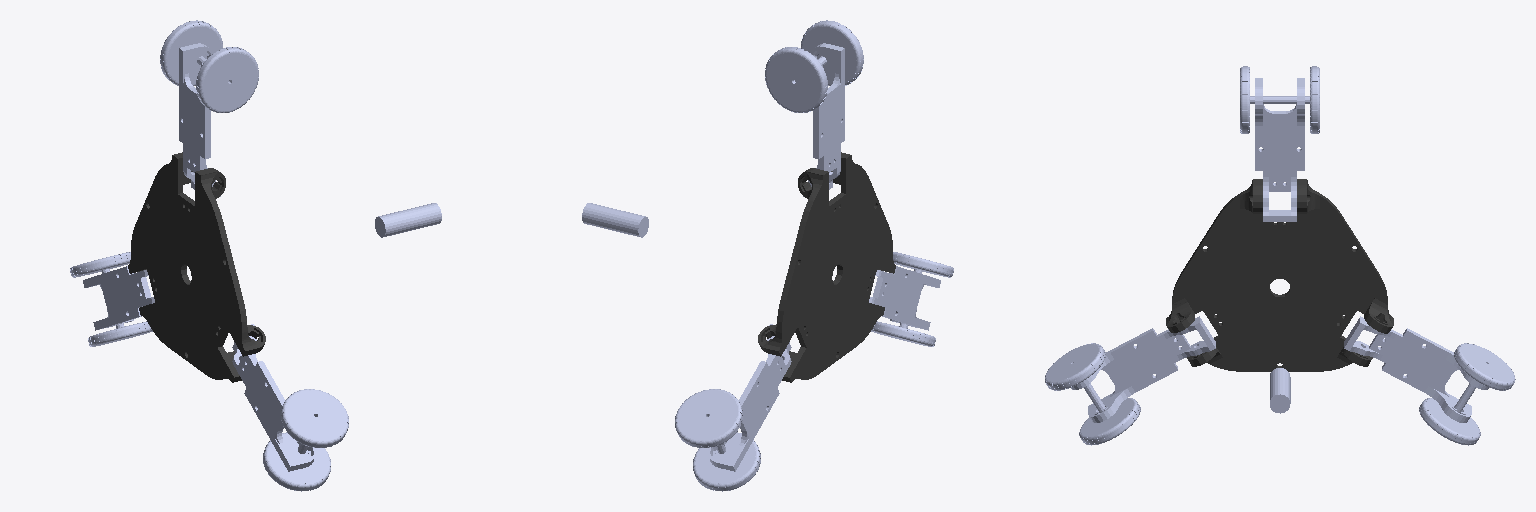
The robot description file, URDF, robot "segf_ver3":
<?xml version="1.0" encoding="utf-8"?>
<!-- This URDF was automatically created by SolidWorks to URDF Exporter! Originally created by [author] ([email redacted]) 
     Commit Version: 1.6.0-1-g15f4949  Build Version: 1.6.7594.29634
     For more information, please see http://wiki.ros.org/sw_urdf_exporter -->
<robot
  name="segf_ver3">
  <link
    name="base_link">
    <inertial>
      <origin
        xyz="0.0107631885751334 0.125751388465178 0.196706606649359"
        rpy="0 0 0" />
      <mass
        value="0.0292481653022373" />
      <inertia
        ixx="3.88747734808681E-05"
        ixy="-5.98006564893277E-08"
        ixz="3.06596509862467E-09"
        iyy="1.93056895699406E-05"
        iyz="7.64627510959608E-10"
        izz="1.98637946417113E-05" />
    </inertial>
    <visual>
      <origin
        xyz="0 0 0"
        rpy="0 0 0" />
      <geometry>
        <mesh
          filename="package://segf_ver3/meshes/base_link.STL" />
      </geometry>
      <material
        name="">
        <color
          rgba="0.298039215686275 0.298039215686275 0.298039215686275 1" />
      </material>
    </visual>
    <collision>
      <origin
        xyz="0 0 0"
        rpy="0 0 0" />
      <geometry>
        <mesh
          filename="package://segf_ver3/meshes/base_link.STL" />
      </geometry>
    </collision>
  </link>
  <link
    name="sus1">
    <inertial>
      <origin
        xyz="0.0245281392565479 -0.00579743460623024 -0.00799999809102764"
        rpy="0 0 0" />
      <mass
        value="0.00484464615393237" />
      <inertia
        ixx="3.44953495510738E-07"
        ixy="5.10613042897034E-08"
        ixz="1.27802151408472E-14"
        iyy="2.31225028349891E-06"
        iyz="2.19478513694735E-14"
        izz="2.08649864683354E-06" />
    </inertial>
    <visual>
      <origin
        xyz="0 0 0"
        rpy="0 0 0" />
      <geometry>
        <mesh
          filename="package://segf_ver3/meshes/sus1.STL" />
      </geometry>
      <material
        name="">
        <color
          rgba="0.792156862745098 0.819607843137255 0.933333333333333 1" />
      </material>
    </visual>
    <collision>
      <origin
        xyz="0 0 0"
        rpy="0 0 0" />
      <geometry>
        <mesh
          filename="package://segf_ver3/meshes/sus1.STL" />
      </geometry>
    </collision>
  </link>
  <joint
    name="sus1r"
    type="revolute">
    <origin
      xyz="0.020949 -0.28148 0.067161"
      rpy="3.1416 -0.5236 1.5708" />
    <parent
      link="base_link" />
    <child
      link="sus1" />
    <axis
      xyz="0 0 0" />
    <limit
      lower="0"
      upper="0"
      effort="0"
      velocity="0" />
  </joint>
  <link
    name="w1">
    <inertial>
      <origin
        xyz="5.22216991871716E-12 0.0109999999662131 1.83967563405218E-11"
        rpy="0 0 0" />
      <mass
        value="0.00802564595067572" />
      <inertia
        ixx="2.63042675367951E-06"
        ixy="-7.55275615083696E-16"
        ixz="6.57318531134782E-16"
        iyy="9.68771865572928E-07"
        iyz="-1.40328686878471E-15"
        izz="2.63042674934207E-06" />
    </inertial>
    <visual>
      <origin
        xyz="0 0 0"
        rpy="0 0 0" />
      <geometry>
        <mesh
          filename="package://segf_ver3/meshes/w1.STL" />
      </geometry>
      <material
        name="">
        <color
          rgba="0.792156862745098 0.819607843137255 0.933333333333333 1" />
      </material>
    </visual>
    <collision>
      <origin
        xyz="0 0 0"
        rpy="0 0 0" />
      <geometry>
        <mesh
          filename="package://segf_ver3/meshes/w1.STL" />
      </geometry>
    </collision>
  </link>
  <joint
    name="w1c"
    type="continuous">
    <origin
      xyz="0 0 -0.019"
      rpy="1.5708 0 -1.0993" />
    <parent
      link="sus1" />
    <child
      link="w1" />
    <axis
      xyz="0 0 0" />
  </joint>
  <link
    name="sus2">
    <inertial>
      <origin
        xyz="0.0245281388862843 -0.00579743458596982 -0.00799999408218524"
        rpy="0 0 0" />
      <mass
        value="0.00484464622012381" />
      <inertia
        ixx="3.44953504540437E-07"
        ixy="5.10613036903035E-08"
        ixz="1.55592500691201E-13"
        iyy="2.31225031988856E-06"
        iyz="4.30376878655885E-14"
        izz="2.0864986737292E-06" />
    </inertial>
    <visual>
      <origin
        xyz="0 0 0"
        rpy="0 0 0" />
      <geometry>
        <mesh
          filename="package://segf_ver3/meshes/sus2.STL" />
      </geometry>
      <material
        name="">
        <color
          rgba="0.792156862745098 0.819607843137255 0.933333333333333 1" />
      </material>
    </visual>
    <collision>
      <origin
        xyz="0 0 0"
        rpy="0 0 0" />
      <geometry>
        <mesh
          filename="package://segf_ver3/meshes/sus2.STL" />
      </geometry>
    </collision>
  </link>
  <joint
    name="sus2r"
    type="revolute">
    <origin
      xyz="0.020949 -0.10396 0.081018"
      rpy="0 -0.5236 -1.5708" />
    <parent
      link="base_link" />
    <child
      link="sus2" />
    <axis
      xyz="0 0 0" />
    <limit
      lower="0"
      upper="0"
      effort="0"
      velocity="0" />
  </joint>
  <link
    name="w2">
    <inertial>
      <origin
        xyz="5.21314935664208E-12 0.0109999999660882 1.84374460143744E-11"
        rpy="0 0 0" />
      <mass
        value="0.00802564595064063" />
      <inertia
        ixx="2.63042675366783E-06"
        ixy="-7.55284403050523E-16"
        ixz="6.57278455888465E-16"
        iyy="9.6877186556785E-07"
        iyz="-1.3996894139786E-15"
        izz="2.63042674933548E-06" />
    </inertial>
    <visual>
      <origin
        xyz="0 0 0"
        rpy="0 0 0" />
      <geometry>
        <mesh
          filename="package://segf_ver3/meshes/w2.STL" />
      </geometry>
      <material
        name="">
        <color
          rgba="0.792156862745098 0.819607843137255 0.933333333333333 1" />
      </material>
    </visual>
    <collision>
      <origin
        xyz="0 0 0"
        rpy="0 0 0" />
      <geometry>
        <mesh
          filename="package://segf_ver3/meshes/w2.STL" />
      </geometry>
    </collision>
  </link>
  <joint
    name="w2c"
    type="continuous">
    <origin
      xyz="0 0 -0.019"
      rpy="1.5708 0 -1.0993" />
    <parent
      link="sus2" />
    <child
      link="w2" />
    <axis
      xyz="0 0 0" />
  </joint>
  <link
    name="sus3">
    <inertial>
      <origin
        xyz="0.0245281427339185 -0.00579743476204341 -0.00799999583699246"
        rpy="0 0 0" />
      <mass
        value="0.00484464531506038" />
      <inertia
        ixx="3.44953306450567E-07"
        ixy="5.10613156648366E-08"
        ixz="7.85719483056321E-14"
        iyy="2.31224993634185E-06"
        iyz="3.48701370193794E-14"
        izz="2.08649849059194E-06" />
    </inertial>
    <visual>
      <origin
        xyz="0 0 0"
        rpy="0 0 0" />
      <geometry>
        <mesh
          filename="package://segf_ver3/meshes/sus3.STL" />
      </geometry>
      <material
        name="">
        <color
          rgba="0.792156862745098 0.819607843137255 0.933333333333333 1" />
      </material>
    </visual>
    <collision>
      <origin
        xyz="0 0 0"
        rpy="0 0 0" />
      <geometry>
        <mesh
          filename="package://segf_ver3/meshes/sus3.STL" />
      </geometry>
    </collision>
  </link>
  <joint
    name="sus3r"
    type="revolute">
    <origin
      xyz="0.020949 -0.20472 0.22783"
      rpy="1.5708 1.5708 0" />
    <parent
      link="base_link" />
    <child
      link="sus3" />
    <axis
      xyz="0 0 0" />
    <limit
      lower="0"
      upper="0"
      effort="0"
      velocity="0" />
  </joint>
  <link
    name="w3">
    <inertial>
      <origin
        xyz="5.21754861537715E-12 0.0109999999661513 1.84169901551456E-11"
        rpy="0 0 0" />
      <mass
        value="0.00802564595065764" />
      <inertia
        ixx="2.63042675367367E-06"
        ixy="-7.55267397898305E-16"
        ixz="6.57297037673746E-16"
        iyy="9.6877186557038E-07"
        iyz="-1.40145231722518E-15"
        izz="2.63042674933879E-06" />
    </inertial>
    <visual>
      <origin
        xyz="0 0 0"
        rpy="0 0 0" />
      <geometry>
        <mesh
          filename="package://segf_ver3/meshes/w3.STL" />
      </geometry>
      <material
        name="">
        <color
          rgba="0.792156862745098 0.819607843137255 0.933333333333333 1" />
      </material>
    </visual>
    <collision>
      <origin
        xyz="0 0 0"
        rpy="0 0 0" />
      <geometry>
        <mesh
          filename="package://segf_ver3/meshes/w3.STL" />
      </geometry>
    </collision>
  </link>
  <joint
    name="w3c"
    type="continuous">
    <origin
      xyz="0 0 -0.019"
      rpy="1.5708 0 -1.0993" />
    <parent
      link="sus3" />
    <child
      link="w3" />
    <axis
      xyz="0 0 0" />
  </joint>
  <link
    name="con1">
    <inertial>
      <origin
        xyz="0.0150000000000001 -8.32667268468867E-17 -1.52655665885959E-16"
        rpy="0 0 0" />
      <mass
        value="0.00235619449019234" />
      <inertia
        ixx="2.94524311274043E-08"
        ixy="4.86347831101101E-22"
        ixz="1.21907854063494E-21"
        iyy="1.91440802328128E-07"
        iyz="0"
        izz="1.91440802328128E-07" />
    </inertial>
    <visual>
      <origin
        xyz="0 0 0"
        rpy="0 0 0" />
      <geometry>
        <mesh
          filename="package://segf_ver3/meshes/con1.STL" />
      </geometry>
      <material
        name="">
        <color
          rgba="0.792156862745098 0.819607843137255 0.933333333333333 1" />
      </material>
    </visual>
    <collision>
      <origin
        xyz="0 0 0"
        rpy="0 0 0" />
      <geometry>
        <mesh
          filename="package://segf_ver3/meshes/con1.STL" />
      </geometry>
    </collision>
  </link>
  <joint
    name="con1f"
    type="fixed">
    <origin
      xyz="0.011619 -0.19672 0.12534"
      rpy="3.0572 0 0" />
    <parent
      link="base_link" />
    <child
      link="con1" />
    <axis
      xyz="0 0 0" />
  </joint>
  <link
    name="con2">
    <inertial>
      <origin
        xyz="1.11022302462516E-16 0.0481300493614309 -1.38777878078145E-16"
        rpy="0 0 0" />
      <mass
        value="0.00279336263712055" />
      <inertia
        ixx="3.47148573143988E-07"
        ixy="-3.21357662835305E-22"
        ixz="6.16112727722387E-24"
        iyy="3.99316347503688E-08"
        iyz="1.06372992329001E-21"
        izz="3.49420107139763E-07" />
    </inertial>
    <visual>
      <origin
        xyz="0 0 0"
        rpy="0 0 0" />
      <geometry>
        <mesh
          filename="package://segf_ver3/meshes/con2.STL" />
      </geometry>
      <material
        name="">
        <color
          rgba="0.792156862745098 0.819607843137255 0.933333333333333 1" />
      </material>
    </visual>
    <collision>
      <origin
        xyz="0 0 0"
        rpy="0 0 0" />
      <geometry>
        <mesh
          filename="package://segf_ver3/meshes/con2.STL" />
      </geometry>
    </collision>
  </link>
  <joint
    name="con2p"
    type="prismatic">
    <origin
      xyz="0 0 0"
      rpy="0 -1.4864 -1.5708" />
    <parent
      link="con1" />
    <child
      link="con2" />
    <axis
      xyz="0 0 0" />
    <limit
      lower="0"
      upper="0"
      effort="0"
      velocity="0" />
  </joint>
  <link
    name="uni">
    <inertial>
      <origin
        xyz="-1.38777878078145E-17 1.92840424184659E-09 1.92840415857987E-09"
        rpy="0 0 0" />
      <mass
        value="0.000271492148155946" />
      <inertia
        ixx="5.93557661395575E-09"
        ixy="4.47220671665863E-15"
        ixz="-4.4722067162952E-15"
        iyy="3.20070578284846E-09"
        iyz="1.00786068069553E-21"
        izz="3.20070578284845E-09" />
    </inertial>
    <visual>
      <origin
        xyz="0 0 0"
        rpy="0 0 0" />
      <geometry>
        <mesh
          filename="package://segf_ver3/meshes/uni.STL" />
      </geometry>
      <material
        name="">
        <color
          rgba="0.792156862745098 0.819607843137255 0.933333333333333 1" />
      </material>
    </visual>
    <collision>
      <origin
        xyz="0 0 0"
        rpy="0 0 0" />
      <geometry>
        <mesh
          filename="package://segf_ver3/meshes/uni.STL" />
      </geometry>
    </collision>
  </link>
  <joint
    name="unir"
    type="revolute">
    <origin
      xyz="0 0.065 0"
      rpy="0 0 1.5708" />
    <parent
      link="con2" />
    <child
      link="uni" />
    <axis
      xyz="0 0 0" />
    <limit
      lower="0"
      upper="0"
      effort="0"
      velocity="0" />
  </joint>
  <link
    name="con3">
    <inertial>
      <origin
        xyz="2.77555756156289E-17 0.0511300493614309 1.66533453693773E-16"
        rpy="0 0 0" />
      <mass
        value="0.00279336263712055" />
      <inertia
        ixx="3.49420107139762E-07"
        ixy="-3.62791951694124E-22"
        ixz="2.22212933976459E-23"
        iyy="3.99316347503688E-08"
        iyz="-9.94221684872227E-22"
        izz="3.47148573143987E-07" />
    </inertial>
    <visual>
      <origin
        xyz="0 0 0"
        rpy="0 0 0" />
      <geometry>
        <mesh
          filename="package://segf_ver3/meshes/con3.STL" />
      </geometry>
      <material
        name="">
        <color
          rgba="0.792156862745098 0.819607843137255 0.933333333333333 1" />
      </material>
    </visual>
    <collision>
      <origin
        xyz="0 0 0"
        rpy="0 0 0" />
      <geometry>
        <mesh
          filename="package://segf_ver3/meshes/con3.STL" />
      </geometry>
    </collision>
  </link>
  <joint
    name="con3r"
    type="revolute">
    <origin
      xyz="0.068 0 0"
      rpy="0 0 1.5708" />
    <parent
      link="uni" />
    <child
      link="con3" />
    <axis
      xyz="0 0 0" />
    <limit
      lower="0"
      upper="0"
      effort="0"
      velocity="0" />
  </joint>
  <link
    name="con4">
    <inertial>
      <origin
        xyz="-0.0180000000000001 6.66133814775094E-16 3.88578058618805E-16"
        rpy="0 0 0" />
      <mass
        value="0.00235619449019234" />
      <inertia
        ixx="2.94524311274043E-08"
        ixy="-1.1574339151654E-21"
        ixz="-6.82310798372854E-22"
        iyy="1.91440802328128E-07"
        iyz="0"
        izz="1.91440802328128E-07" />
    </inertial>
    <visual>
      <origin
        xyz="0 0 0"
        rpy="0 0 0" />
      <geometry>
        <mesh
          filename="package://segf_ver3/meshes/con4.STL" />
      </geometry>
      <material
        name="">
        <color
          rgba="0.792156862745098 0.819607843137255 0.933333333333333 1" />
      </material>
    </visual>
    <collision>
      <origin
        xyz="0 0 0"
        rpy="0 0 0" />
      <geometry>
        <mesh
          filename="package://segf_ver3/meshes/con4.STL" />
      </geometry>
    </collision>
  </link>
  <joint
    name="con4p"
    type="prismatic">
    <origin
      xyz="0 0 0"
      rpy="-0.9827 0 -1.5708" />
    <parent
      link="con3" />
    <child
      link="con4" />
    <axis
      xyz="-1 0 0" />
    <limit
      lower="0"
      upper="0"
      effort="0"
      velocity="0" />
  </joint>
</robot>

--- Facts derived from the render (not from the file) ---
The picture shows the robot from 3 angles, left to right: view 1: azimuth 30°, elevation 25°; view 2: azimuth 150°, elevation 25°; view 3: azimuth 270°, elevation 25°; orthographic projection.
Model segf_ver3 with 12 links and 11 joints (5 revolute, 3 continuous, 2 prismatic, 1 fixed), rooted at base_link, posed all joints at 0.
Links seen in each view (by area): view 1: base_link, w3, w1, sus1, sus3, sus2, w2, con4; view 2: base_link, w3, w2, sus2, sus3, sus1, w1, con4; view 3: base_link, sus1, sus2, sus3, w2, w1, w3, con4.
Link boxes in pixels (x1,y1,x2,y2): base_link: [128, 152, 265, 382]; w3: [160, 20, 258, 112]; w1: [263, 389, 348, 491]; sus1: [232, 324, 315, 471]; sus3: [179, 43, 220, 196]; sus2: [83, 266, 154, 330]; w2: [70, 252, 152, 346]; con4: [375, 203, 441, 237]; base_link: [758, 152, 895, 382]; w3: [765, 20, 863, 112]; w2: [675, 389, 760, 491]; sus2: [708, 324, 791, 471]; sus3: [803, 43, 844, 196]; sus1: [869, 266, 940, 330]; w1: [871, 252, 953, 346]; con4: [582, 203, 648, 237]; base_link: [1166, 179, 1393, 371]; sus1: [1071, 316, 1215, 422]; sus2: [1344, 316, 1488, 422]; sus3: [1255, 78, 1304, 221]; w2: [1419, 343, 1515, 445]; w1: [1045, 343, 1140, 445]; w3: [1240, 66, 1319, 133]; con4: [1270, 368, 1290, 413].
Bounding box of the posed robot: 0.1367 × 0.2231 × 0.1936 m (x, y, z).
Meshes: 12 distinct files referenced, 8 mesh visuals loaded (8 binary STL); not drawn: 4 (reference not matched to a file when rendering).